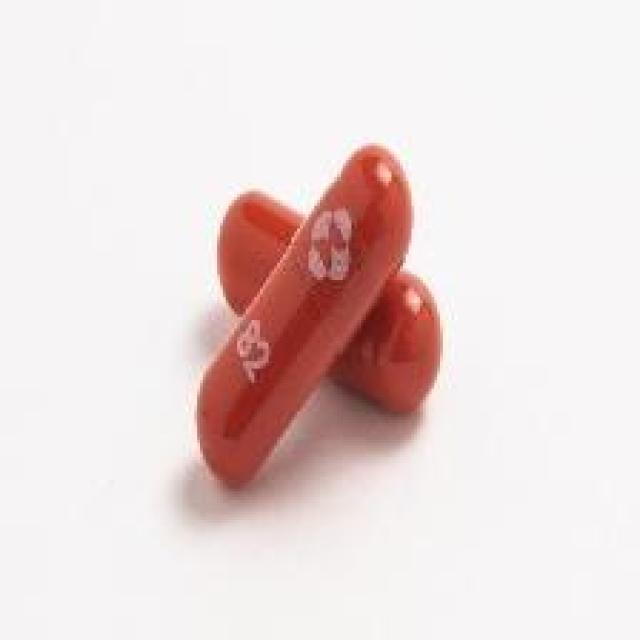Medicine: (176, 122, 476, 504)
